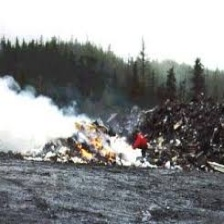smoke: (1, 83, 122, 151)
